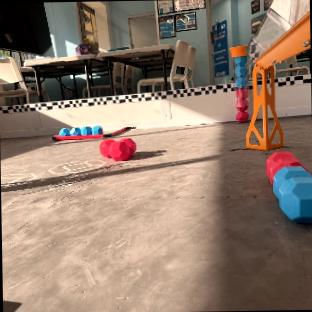V5_BLUE: (267, 152, 312, 223), (59, 125, 103, 136)
V5_RED: (267, 150, 306, 181), (99, 137, 135, 160), (235, 110, 248, 121)
